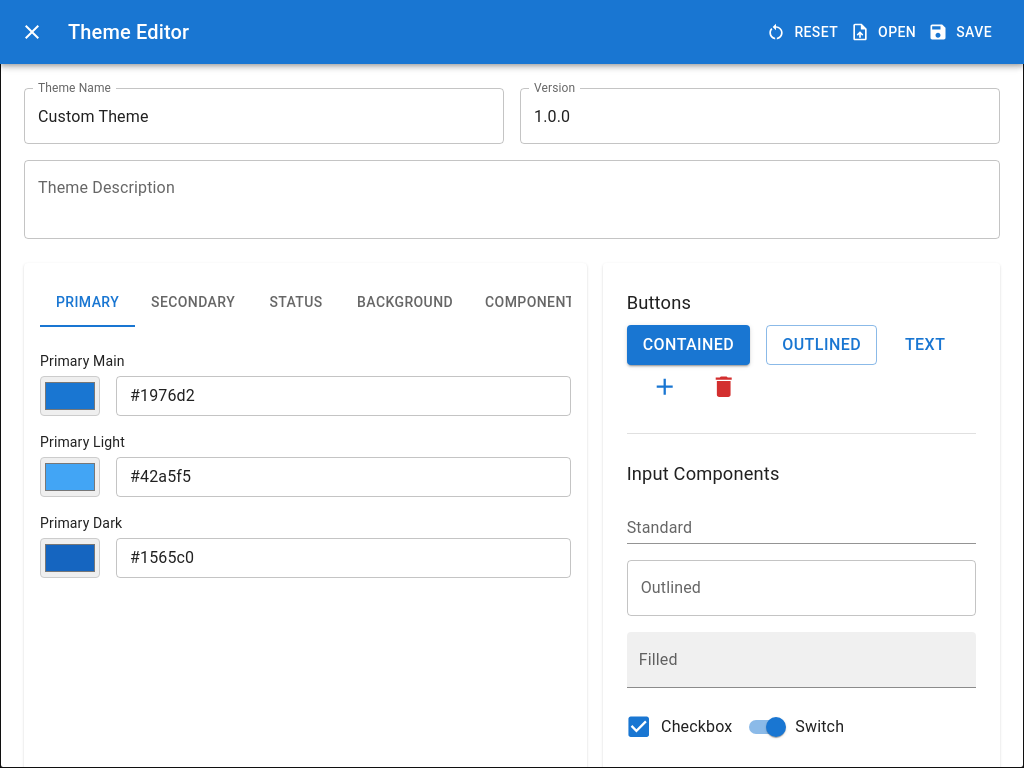
Scenario: ThemeEditorDialog - Overwrite File Functionality › should close overwrite dialog when Cancel is clicked
The width and height of the screenshot is (1024, 768).
# Set theme name
Replace the text in the field labelled "Theme Name" with "My Theme" at (264, 116), box 24,88 -> 504,144
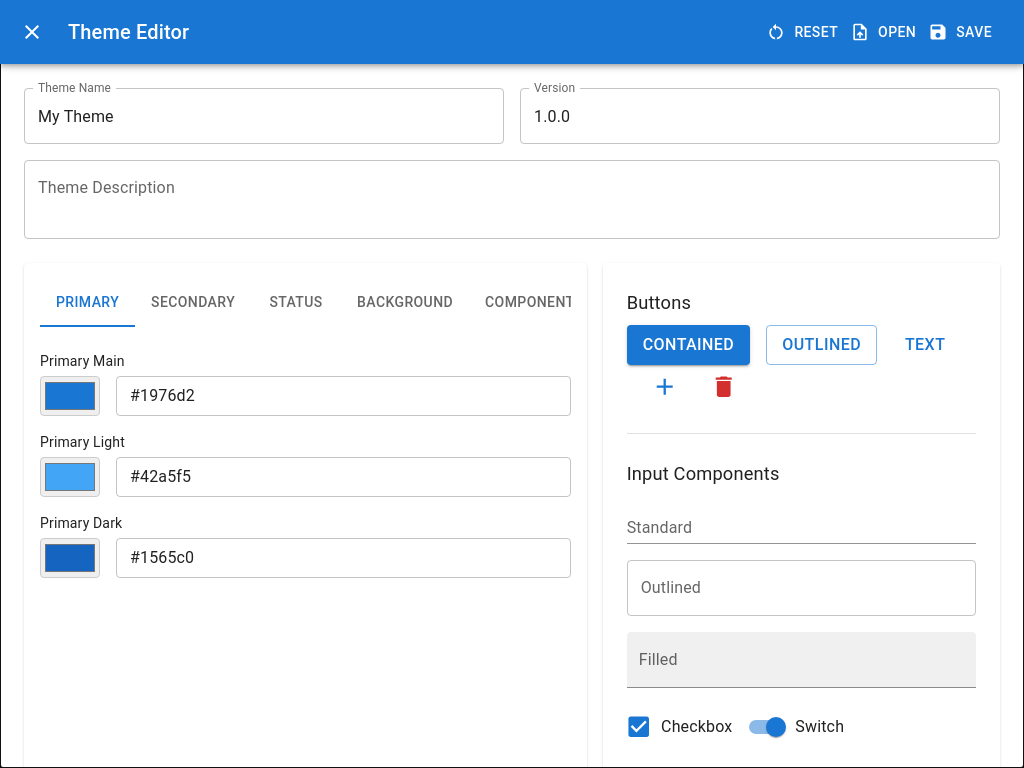
# Click Save button
Click the button "Save" at (962, 32), box 924,14 -> 1000,50
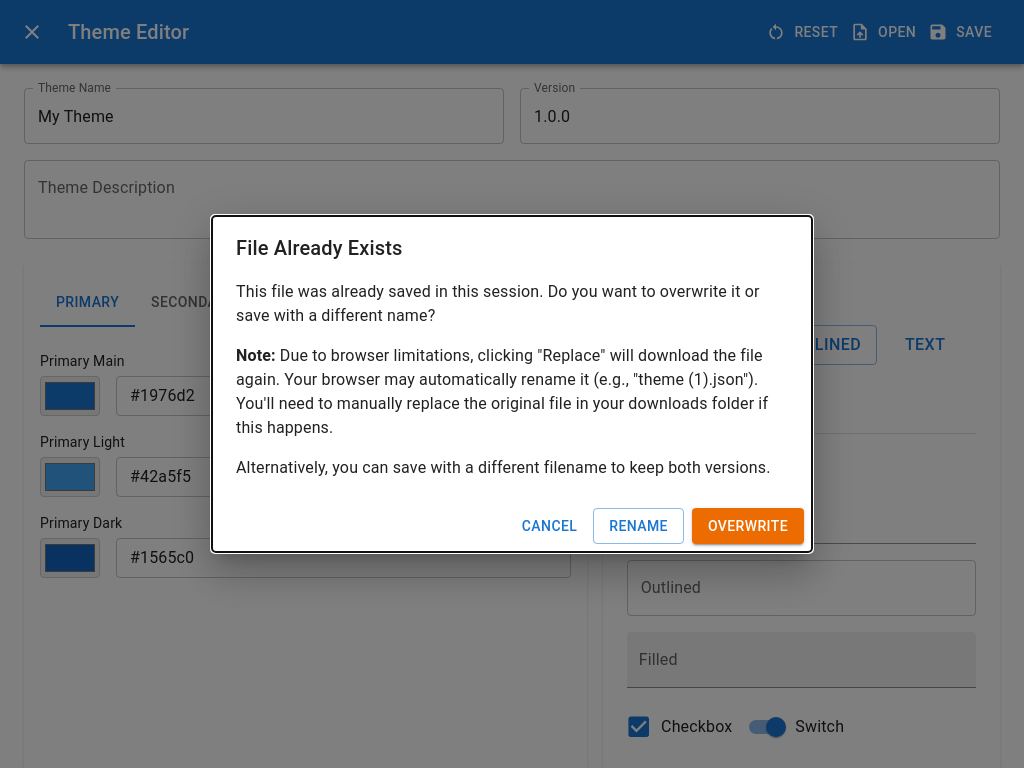
Now the heading "File Already Exists" is shown, box 236,236 -> 402,260
# Click Cancel (get the first cancel button which should be in the overwrite dialog)
Click the button "Cancel" at (550, 526), box 514,508 -> 585,544
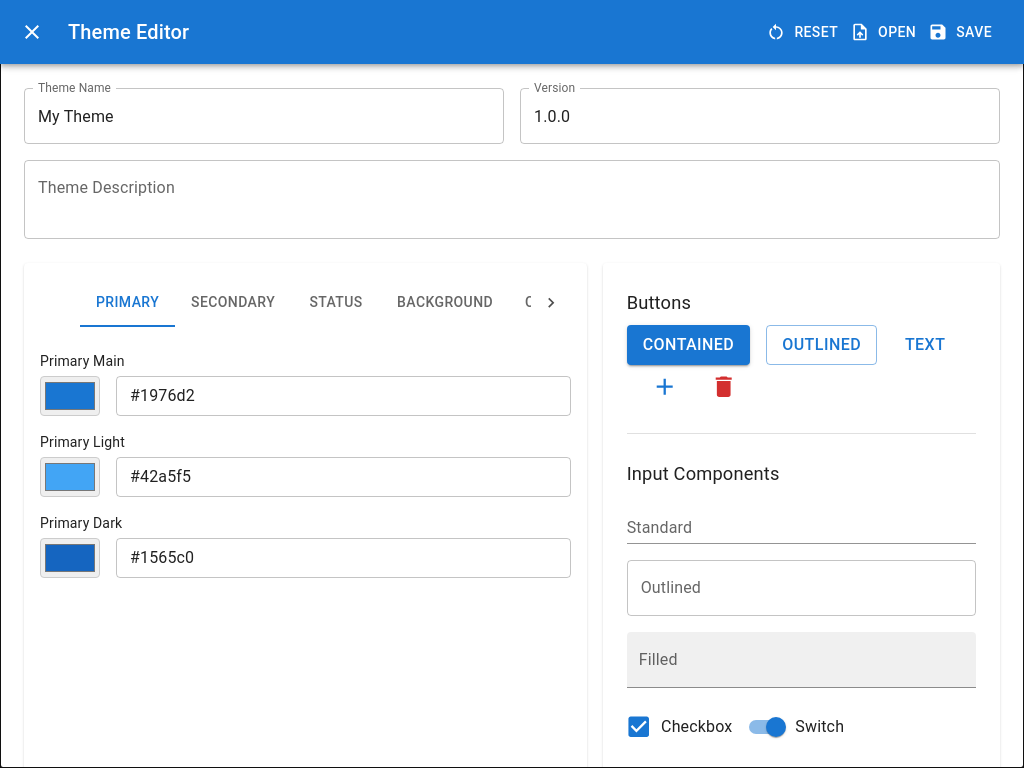
Now the heading "File Already Exists" is gone
